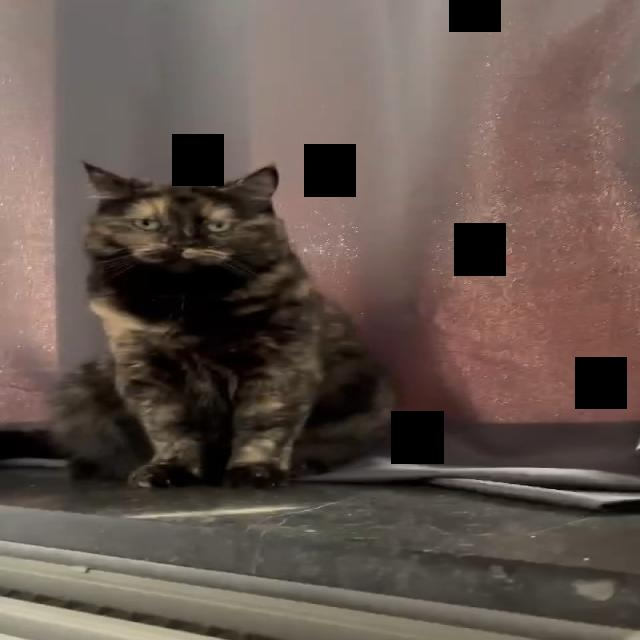authorized: (45, 159, 399, 489)
